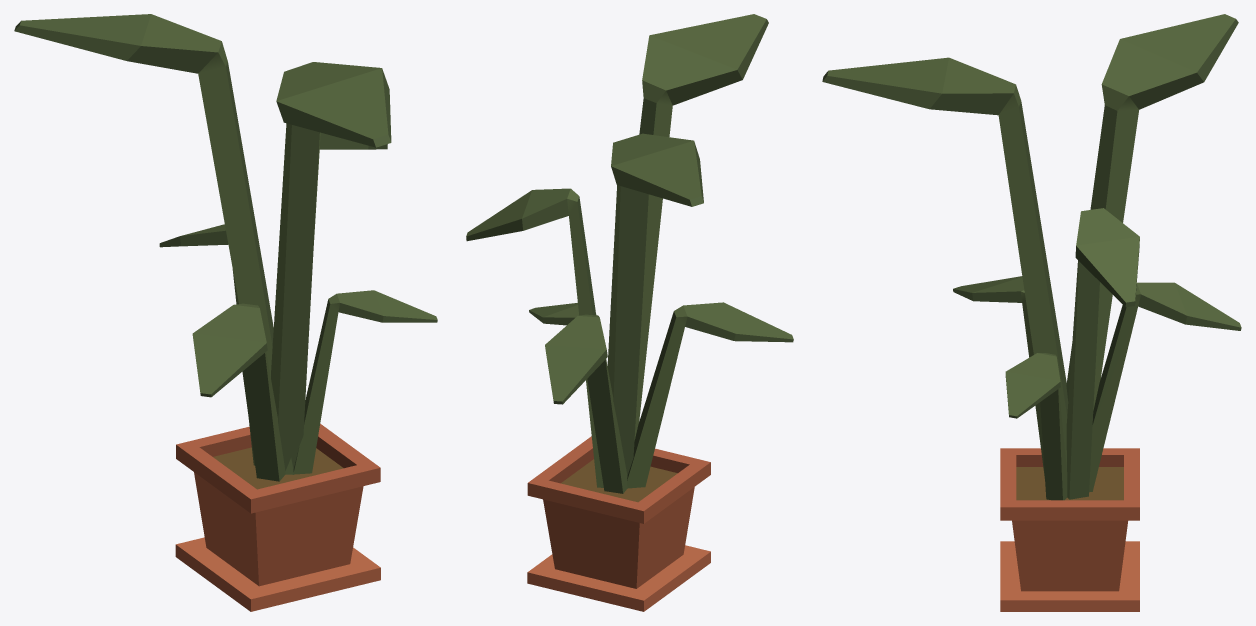
The model's file is SO_Plant_01.fbx.
3 renders of one model, left to right at view 1: azimuth 30°, elevation 25°; view 2: azimuth 150°, elevation 25°; view 3: azimuth 270°, elevation 25°, orthographic. The views are drawn at different scales.
Parts seen in each view (by area): view 1: SO_Plant_01; view 2: SO_Plant_01; view 3: SO_Plant_01.
Boxes of the visible parts, x1,y1,x2,y2 form: SO_Plant_01: [14, 14, 437, 611]; SO_Plant_01: [466, 14, 793, 611]; SO_Plant_01: [822, 14, 1241, 611].
Size of the model in its own units: 1.47 by 2.39 by 1.8.
